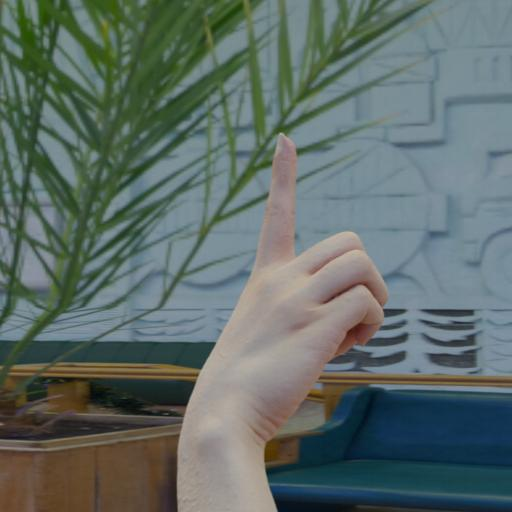D: (194, 110, 426, 434)
